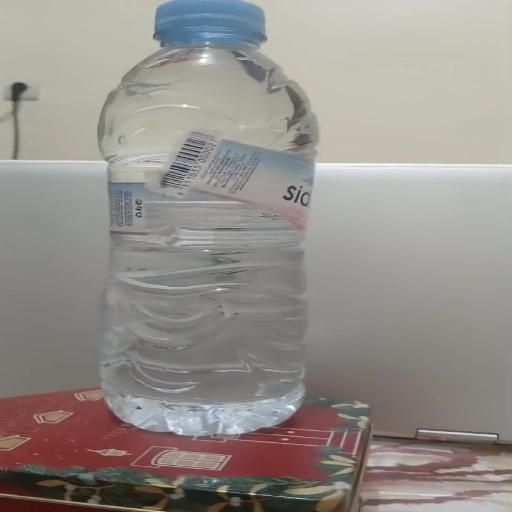bouteille non conformite: (93, 0, 375, 455)
